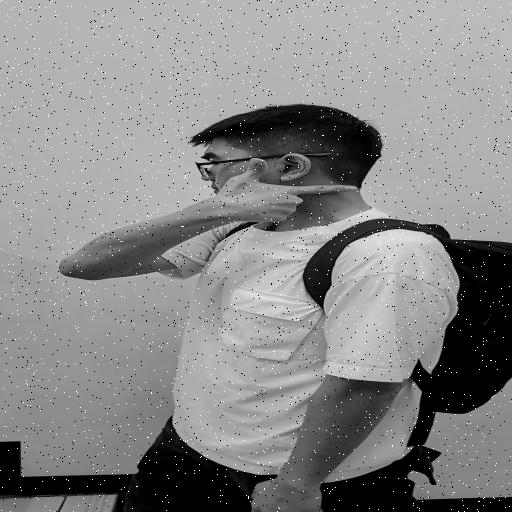next: (197, 155, 379, 232)
